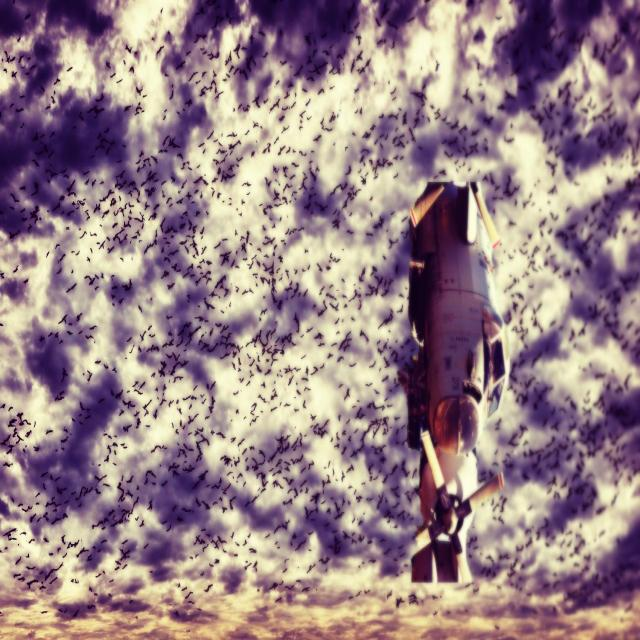airplane: (399, 177, 510, 584)
